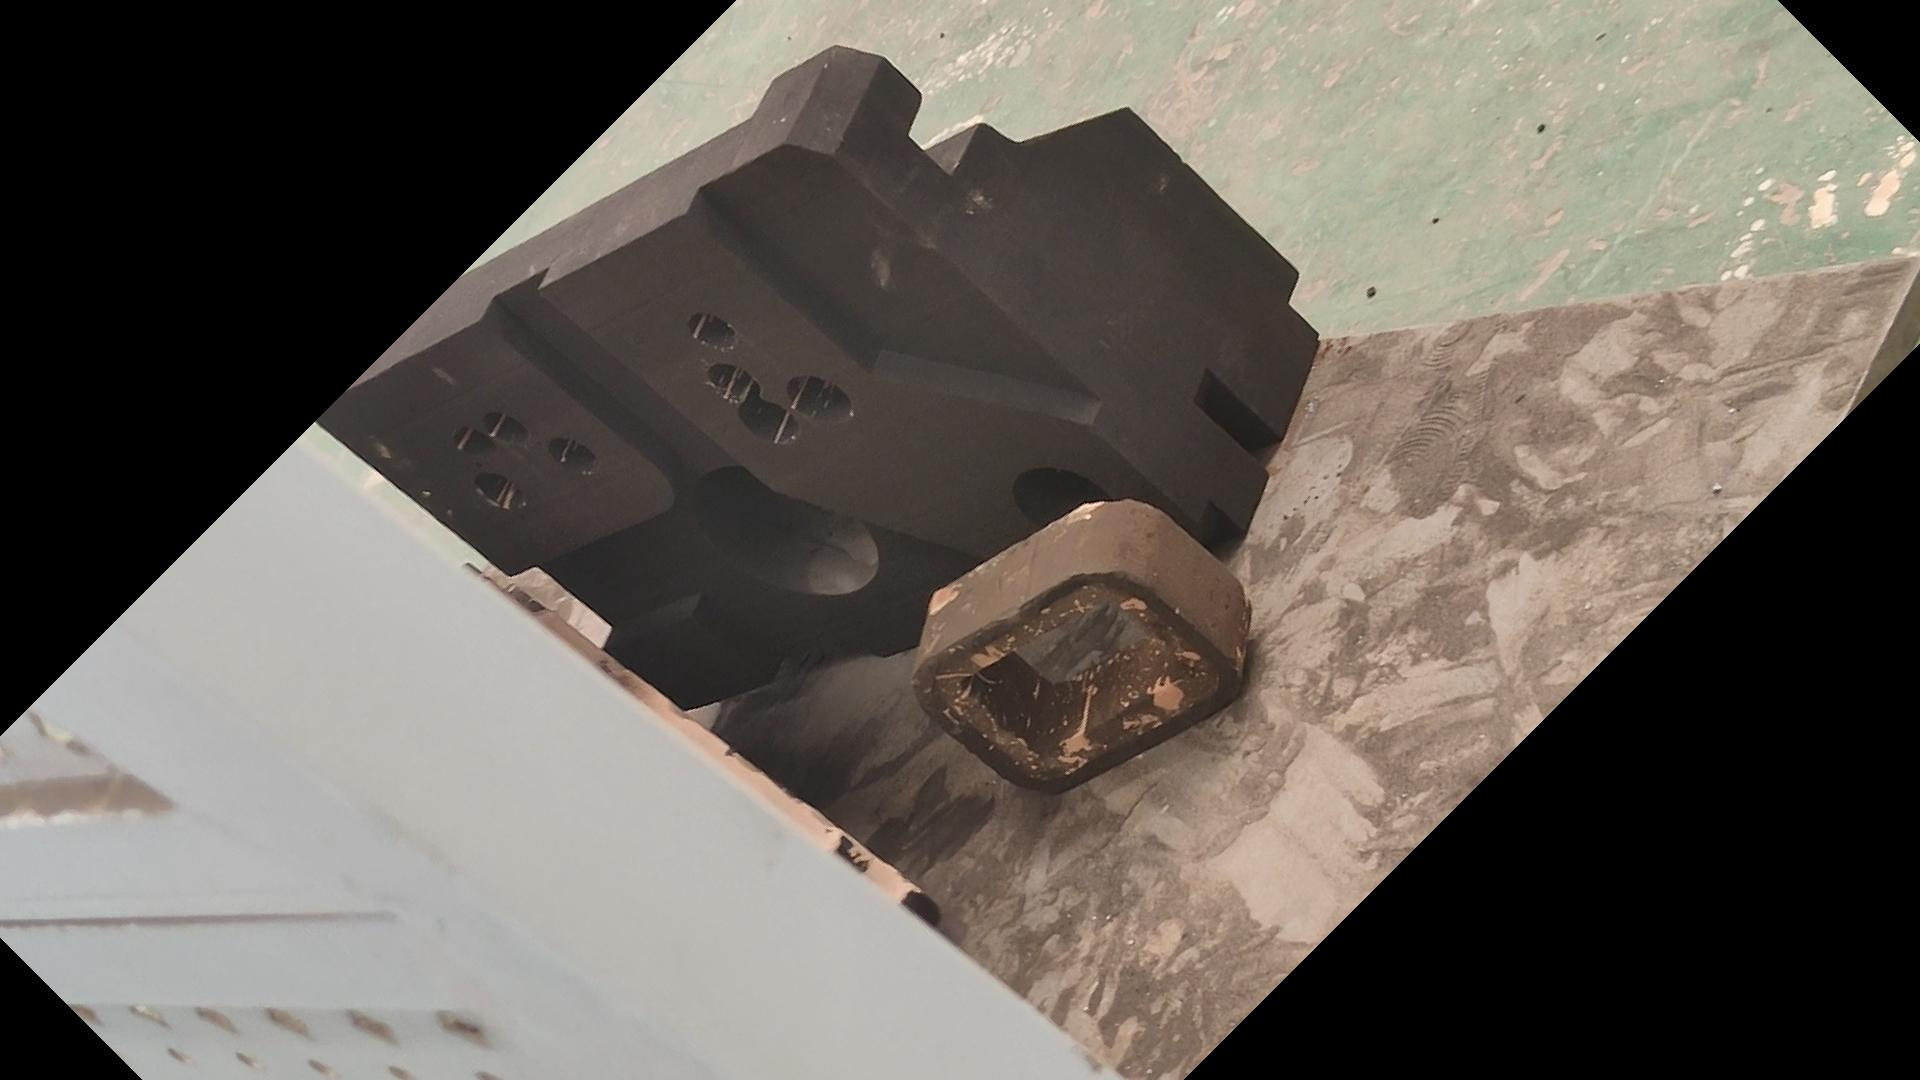pouring hole: (1013, 468, 1120, 537)
